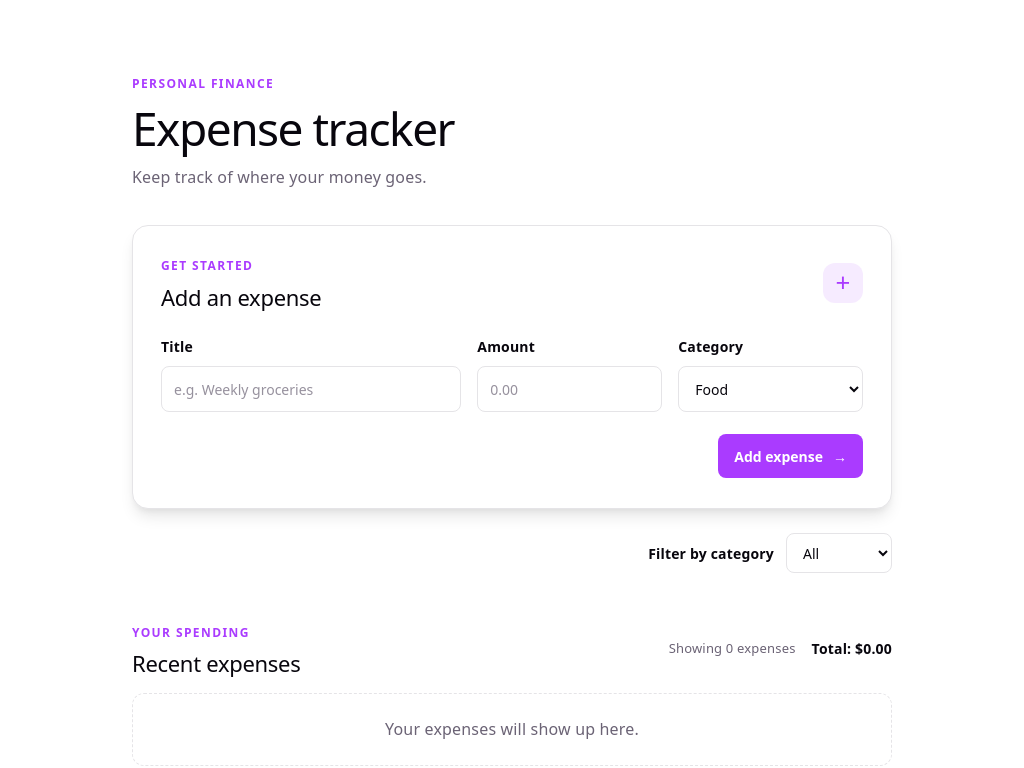
Test: Expense tracker › adds an expense and resets the form
Type "  Weekly groceries  " into the field with test id "expense-title-input" at (311, 389), box [161, 366, 461, 412]
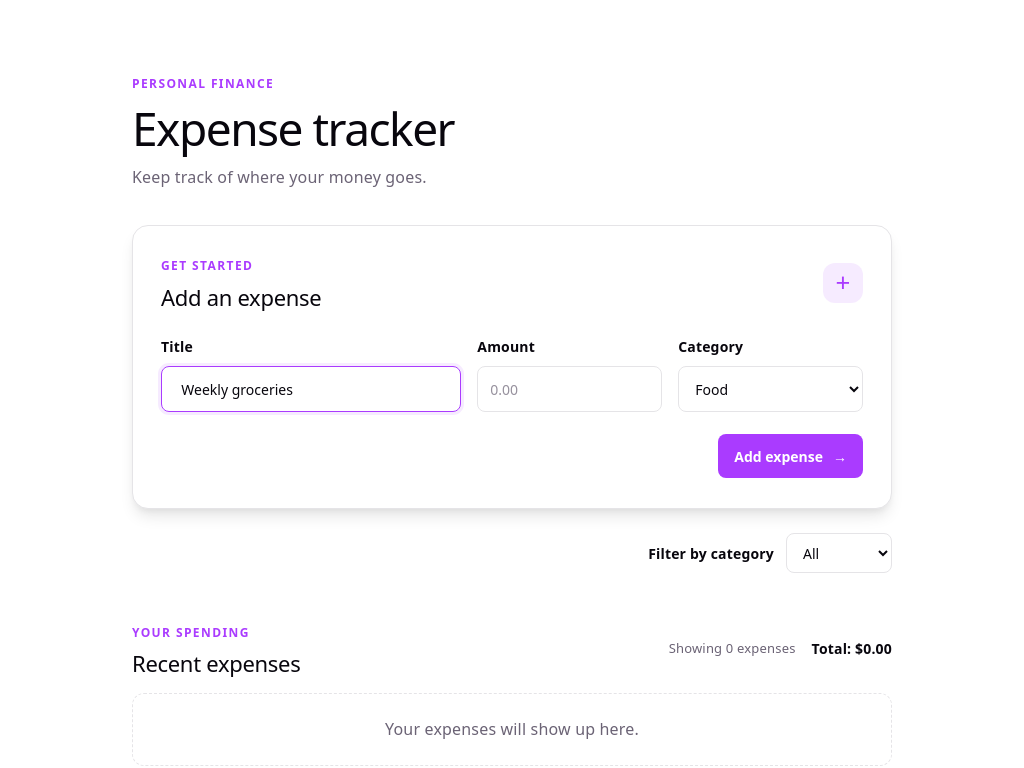
Type "42.5" into the number field with test id "expense-amount-input" at (570, 389), box [477, 366, 662, 412]
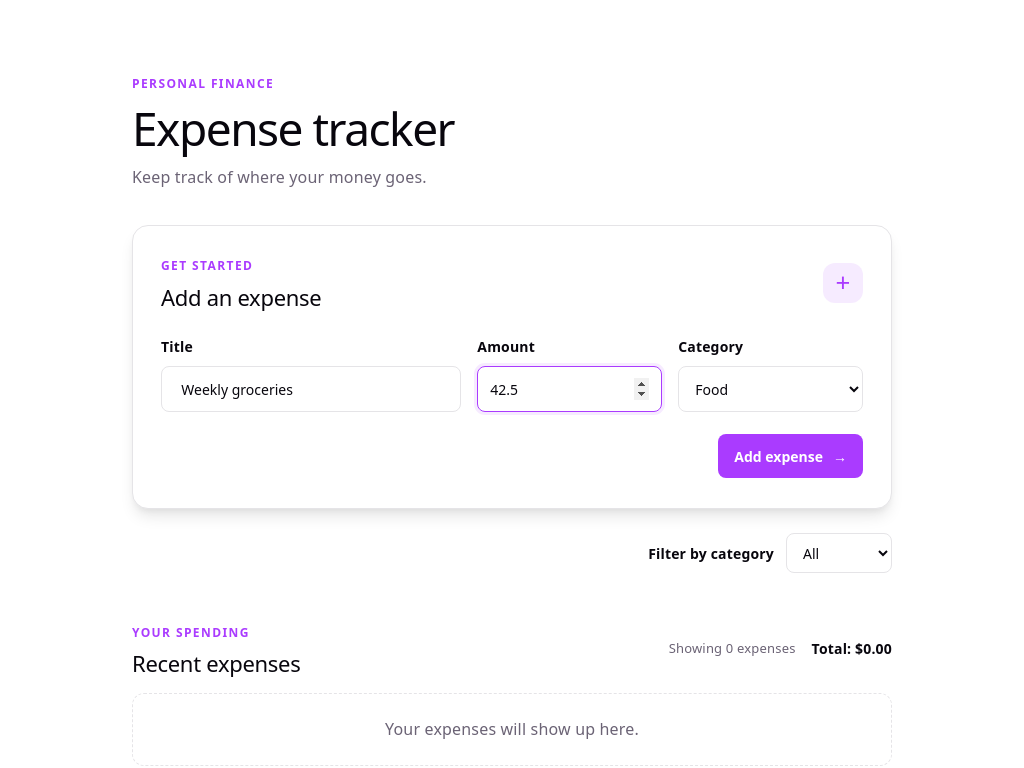
Select "Food" in the dropdown with test id "expense-category-input" at (771, 389), box [678, 366, 863, 412]
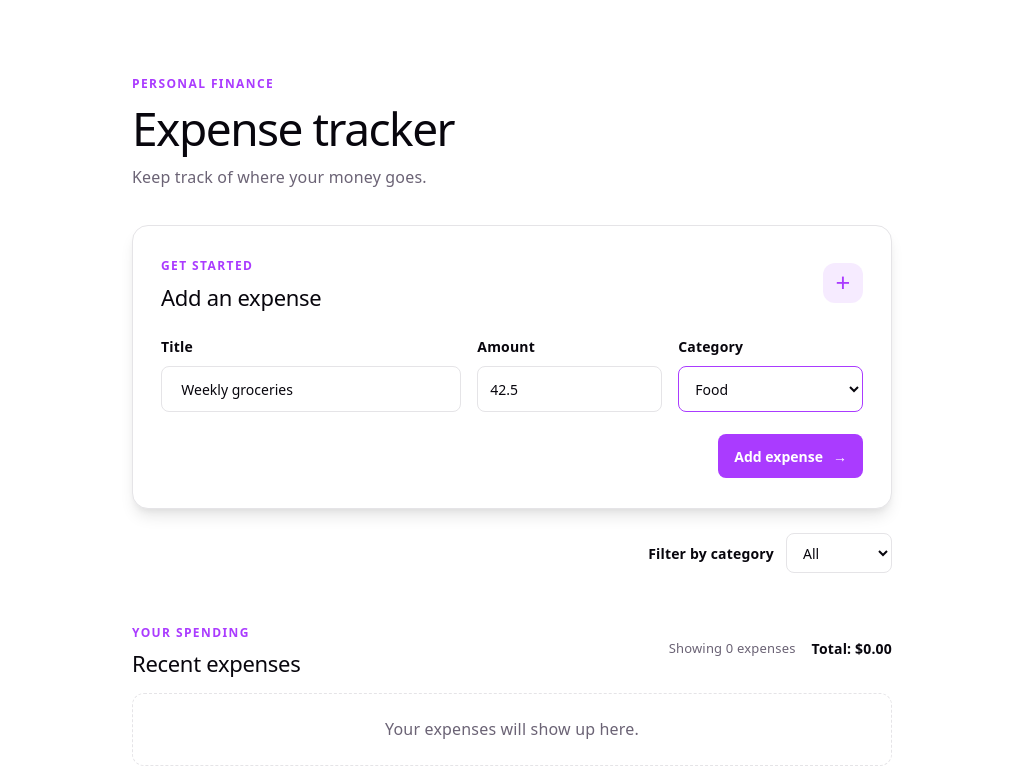
Click the button with test id "add-expense-button" at (791, 456), box [718, 434, 863, 478]
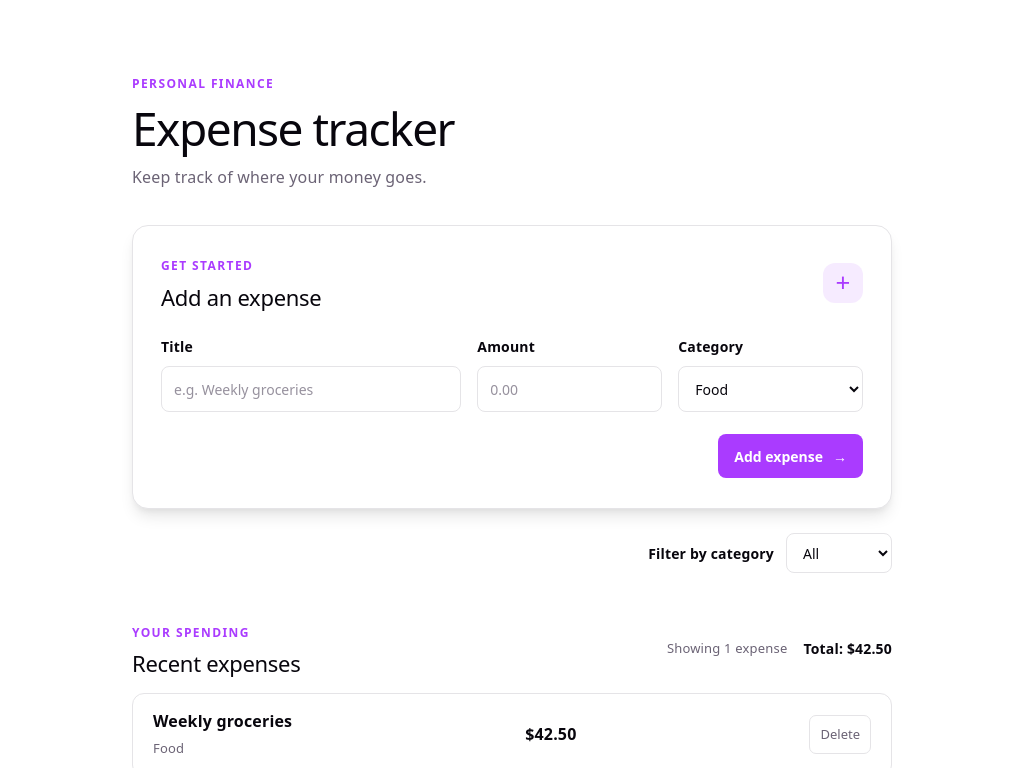
Now the text "Weekly groceries" is shown, box [153, 710, 292, 733]
Now the text "Food" is shown, box [153, 739, 184, 757]
Now the text "$42.50" is shown, box [525, 723, 576, 746]
